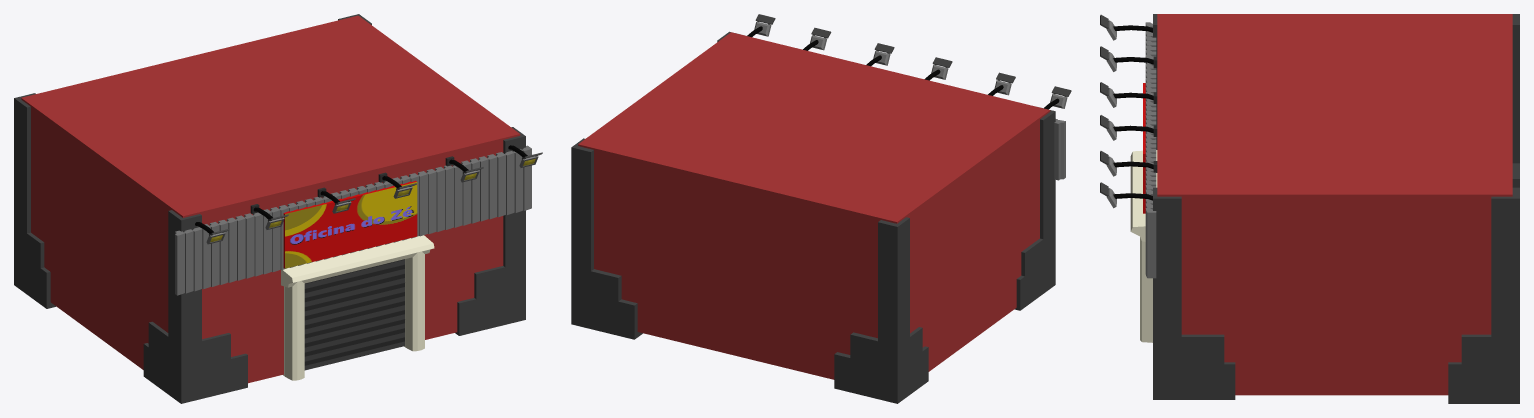
Rendered from LojaDoSeuZE.fbx.
3 views of the same model, side by side, from view 1: azimuth 30°, elevation 25°; view 2: azimuth 150°, elevation 25°; view 3: azimuth 270°, elevation 25° (orthographic). The views are drawn at different scales.
Parts seen in each view (by area): view 1: Loja do seu ZE; view 2: Loja do seu ZE; view 3: Loja do seu ZE.
Part boxes in pixels (x1,y1,x2,y2): Loja do seu ZE: (14, 14, 542, 403); Loja do seu ZE: (571, 14, 1071, 403); Loja do seu ZE: (1100, 14, 1519, 403).
Bounding box in the file's own units: 1314 × 671 × 1224.
